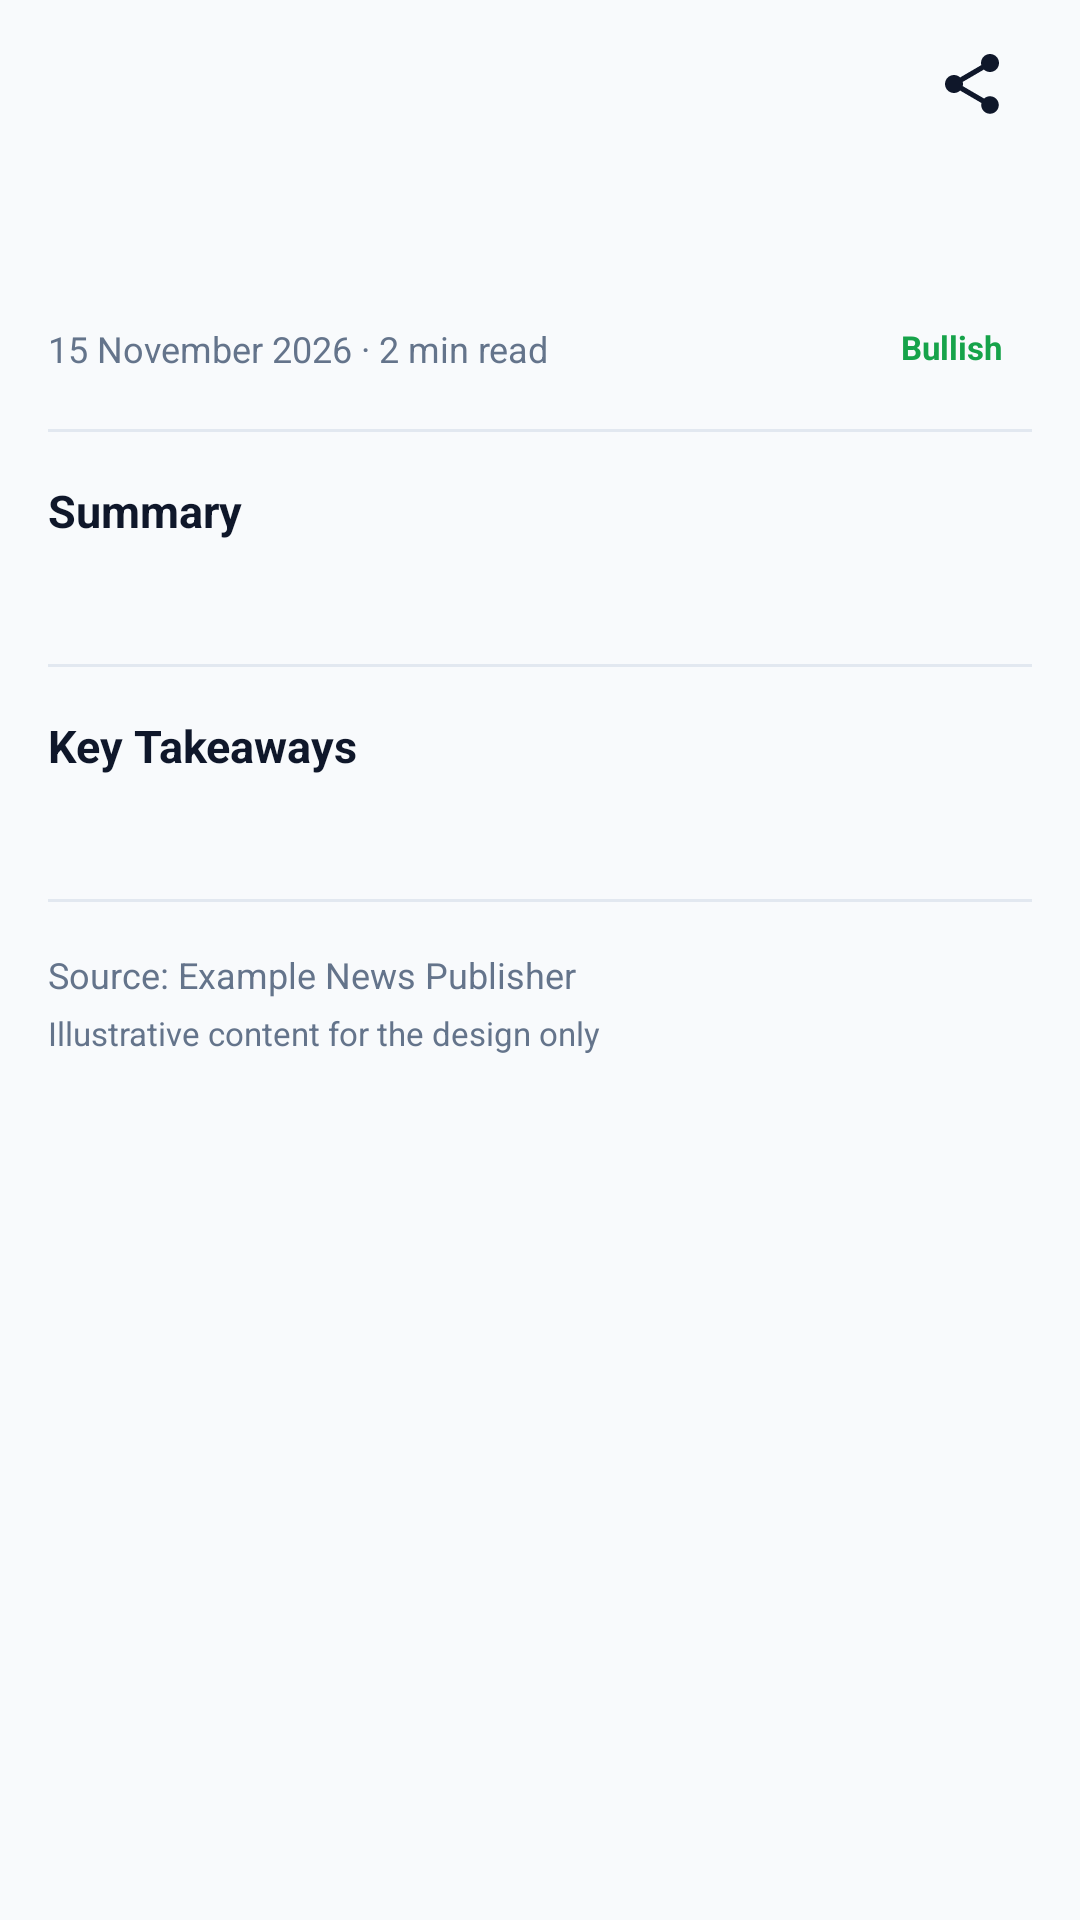

Icons on this 1080px x 1920px Android screen, each with the point to tap as [x,y]:
Share: [972,84]
